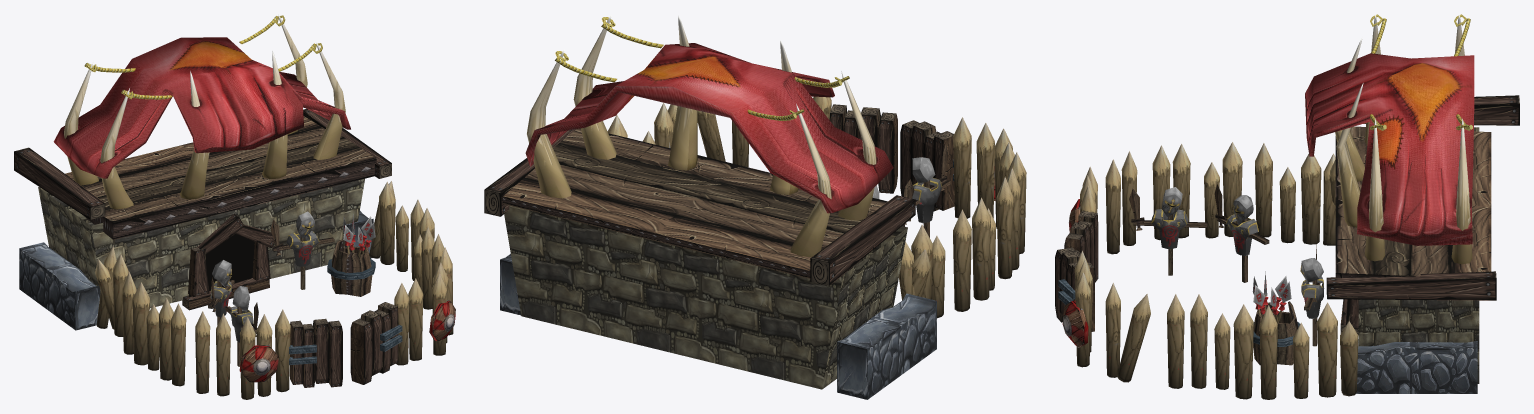
The model's file is Orc_Barracks.FBX.
3 views of the same model, side by side, from view 1: azimuth 30°, elevation 25°; view 2: azimuth 150°, elevation 25°; view 3: azimuth 270°, elevation 25° (orthographic). The views are drawn at different scales.
Visible parts, largest first — view 1: awning004, post (×22), floor003, Box042, fang (×5), foundation, door005, door004, wood_table (×4), dummy (×3), step006, hole (+8 smaller); view 2: Box042, floor003, awning004, post (×15), fang (×5), foundation, step006, door005, door004, fang014, step003, dummy (+1 smaller); view 3: post (×21), awning004, floor003, foundation003, Box042, step003, fang (×3), dummy (×3), fang014, step006, door005, rack (×2) (+3 smaller).
Boxes of the visible parts, x1,y1,x2,y2 form: awning004: (53,37,350,178); post (×22): (95,181,453,399); floor003: (65,116,376,239); Box042: (38,178,364,308); fang (×5): (64,14,307,209); foundation: (19,242,100,330); door005: (290,318,342,387); door004: (350,302,398,384); wood_table (×4): (188,213,274,297); dummy (×3): (210,211,319,342); step006: (14,147,105,219); hole: (188,234,254,296); Box042: (504,205,907,389); floor003: (503,128,904,278); awning004: (525,43,893,213); post (×15): (654,102,1026,318); fang (×5): (527,15,876,257); foundation: (837,293,936,399); step006: (810,195,915,285); door005: (900,120,954,211); door004: (829,104,897,193); fang014: (573,14,616,159); step003: (484,129,575,216); dummy: (912,157,942,223); post (×21): (1075,142,1358,399); awning004: (1305,53,1474,245); floor003: (1335,126,1491,278); foundation003: (1356,339,1477,393); Box042: (1358,127,1479,383); step003: (1326,271,1496,300); fang (×3): (1335,37,1472,264); dummy (×3): (1151,187,1324,318); fang014: (1364,118,1384,261); step006: (1363,95,1519,125); door005: (1064,211,1098,282); rack (×2): (1129,184,1269,282).
Bounding box in the file's own units: 4875 × 3394 × 5389.
